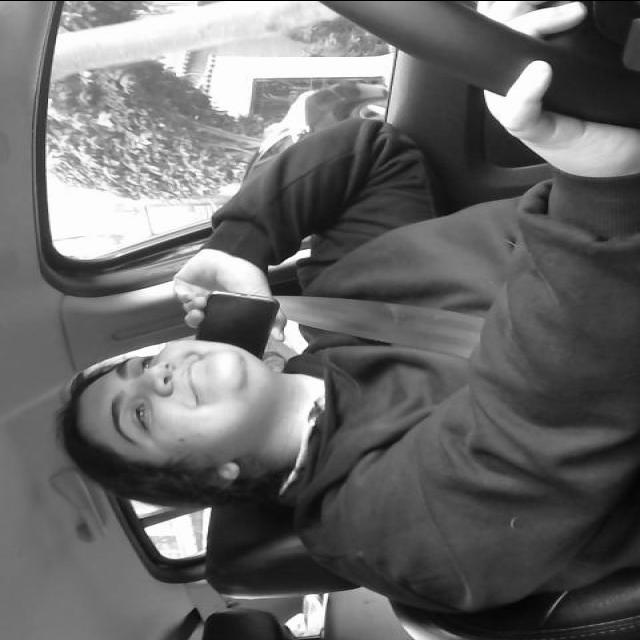mobile use: (182, 290, 299, 342)
